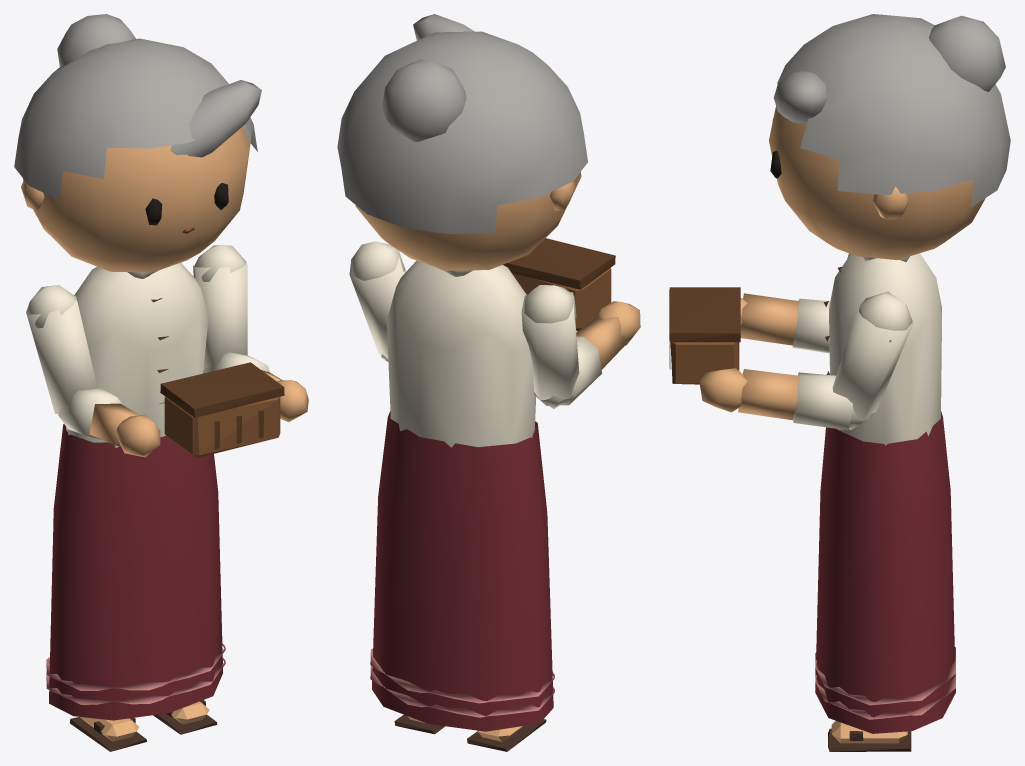
The model's file is era1_grandma_box.glb.
3 renders of one model, left to right at view 1: azimuth 30°, elevation 25°; view 2: azimuth 150°, elevation 25°; view 3: azimuth 270°, elevation 25°, orthographic. The views are drawn at different scales.
Visible parts, largest first — view 1: body, head, prop_wooden_box, arm_R, arm_L, forearm_R, shin_R, forearm_L, shin_L; view 2: body, head, arm_R, prop_wooden_box, arm_L, forearm_R, shin_R; view 3: body, head, forearm_L, prop_wooden_box, arm_L, forearm_R, shin_L.
Boxes of the visible parts, x1=… form: body: x1=46, y1=262, x2=225, y2=720; head: x1=14, y1=14, x2=261, y2=272; prop_wooden_box: x1=160, y1=362, x2=284, y2=457; arm_R: x1=26, y1=285, x2=97, y2=413; arm_L: x1=193, y1=244, x2=247, y2=371; forearm_R: x1=58, y1=386, x2=160, y2=457; shin_R: x1=70, y1=717, x2=146, y2=751; forearm_L: x1=202, y1=352, x2=308, y2=422; shin_L: x1=153, y1=700, x2=217, y2=734; body: x1=370, y1=260, x2=554, y2=731; head: x1=337, y1=14, x2=587, y2=270; arm_R: x1=521, y1=285, x2=579, y2=408; prop_wooden_box: x1=503, y1=238, x2=615, y2=331; arm_L: x1=349, y1=241, x2=406, y2=360; forearm_R: x1=534, y1=301, x2=640, y2=405; shin_R: x1=467, y1=719, x2=546, y2=751; body: x1=815, y1=253, x2=955, y2=733; head: x1=769, y1=14, x2=1010, y2=259; forearm_L: x1=699, y1=368, x2=872, y2=430; prop_wooden_box: x1=669, y1=287, x2=740, y2=384; arm_L: x1=832, y1=291, x2=913, y2=429; forearm_R: x1=740, y1=293, x2=830, y2=353; shin_L: x1=828, y1=721, x2=911, y2=751.
Bounding box in the file's own units: 0.4966 × 1.47 × 0.6447.
